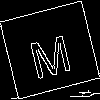M: (24, 25, 74, 80)
